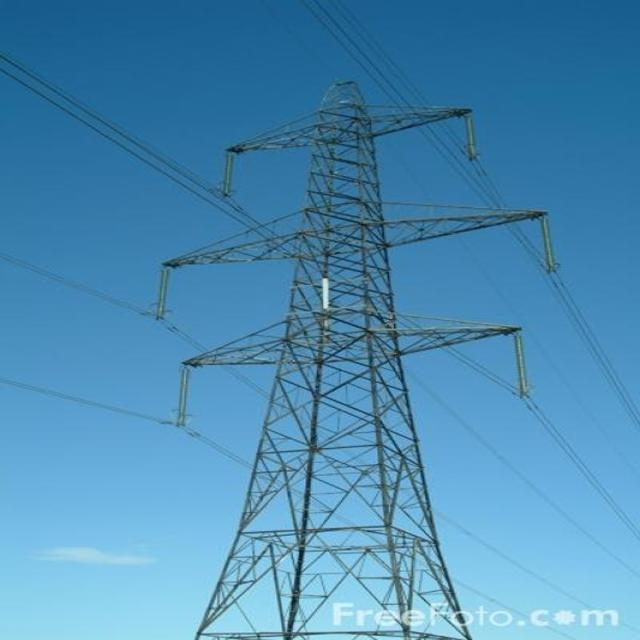non-critical vegetation: (145, 61, 552, 636)
